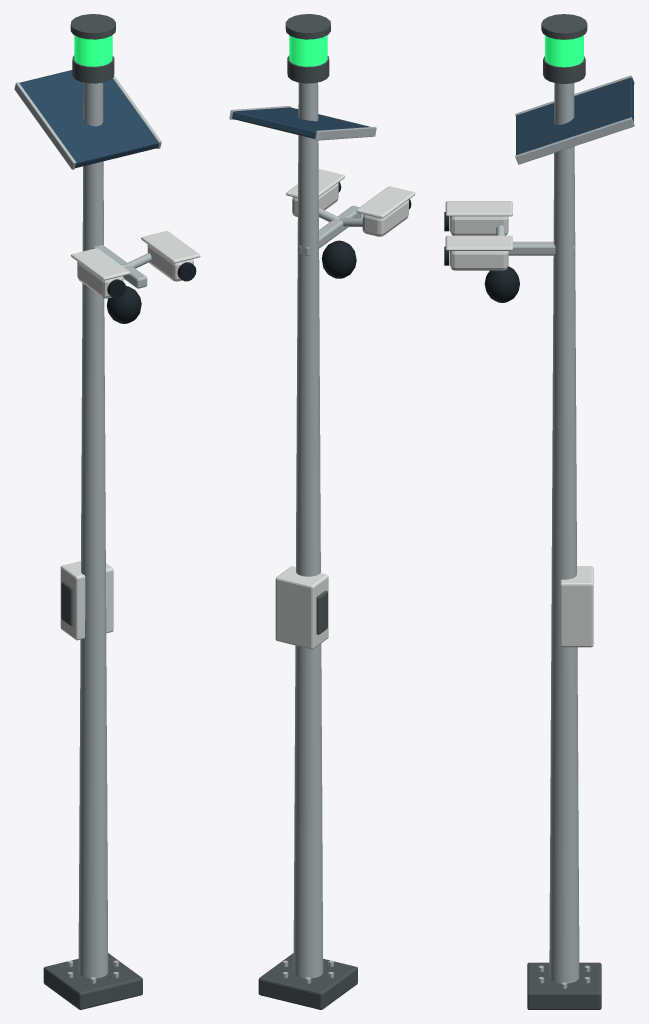
File: camera-pole.glb
The picture shows the model from 3 angles, left to right: view 1: azimuth 30°, elevation 25°; view 2: azimuth 150°, elevation 25°; view 3: azimuth 270°, elevation 25°; orthographic projection.
Parts seen in each view (by area): view 1: Foundation bolt, Solar panel, Camera pole footing, Weatherproof network box, Camera recessed lens, Green beacon; view 2: Foundation bolt, Weatherproof network box, Camera pole footing, Solar panel, Camera recessed lens, Green beacon; view 3: Foundation bolt, Weatherproof network box, Camera pole footing, Solar panel, Camera recessed lens, Green beacon.
Boxes of the visible parts, x1,y1,x2,y2 form: Foundation bolt: [14, 75, 161, 983]; Solar panel: [19, 70, 158, 168]; Camera pole footing: [43, 14, 142, 1009]; Weatherproof network box: [60, 231, 200, 640]; Camera recessed lens: [106, 262, 196, 323]; Green beacon: [74, 35, 112, 66]; Foundation bolt: [229, 82, 376, 983]; Weatherproof network box: [275, 169, 415, 649]; Camera pole footing: [258, 14, 357, 1009]; Solar panel: [232, 107, 370, 138]; Camera recessed lens: [321, 182, 411, 278]; Green beacon: [289, 35, 327, 66]; Foundation bolt: [496, 75, 634, 988]; Weatherproof network box: [445, 201, 593, 647]; Camera pole footing: [527, 14, 601, 1009]; Solar panel: [516, 77, 633, 155]; Camera recessed lens: [444, 212, 519, 302]; Green beacon: [545, 35, 583, 67].
Bounding box in the file's own units: 0.64 × 6.05 × 1.07.
